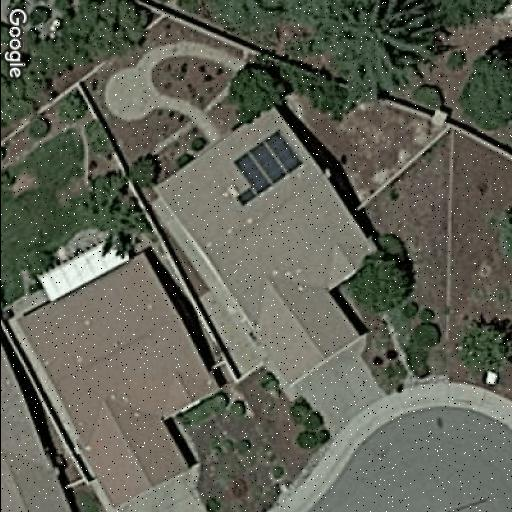solar-panel: (231, 132, 305, 208)
